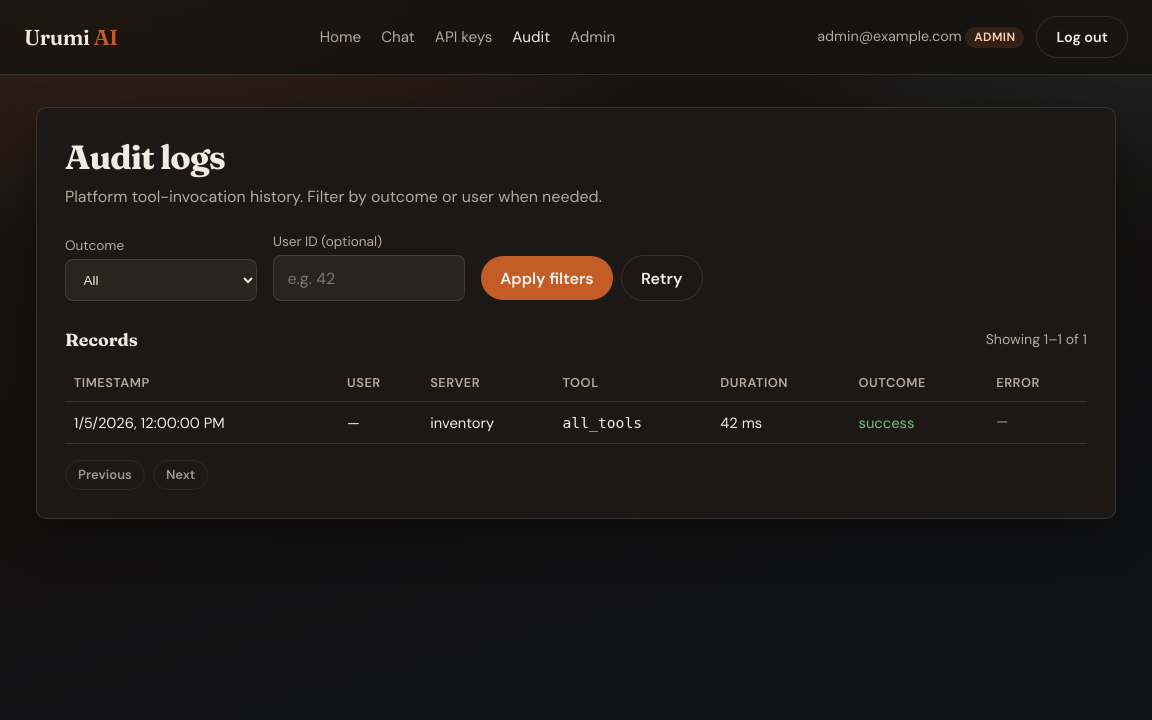
Scenario: audit log viewer › lets admins filter by user ID
This screenshot has width=1152, height=720.
Expected: the text "all_tools" is shown, [562, 414, 642, 430]
Expected: the column heading "User" is shown, [338, 363, 421, 402]
Type "42" into the field labelled "User ID (optional)".
click(369, 278); type("42")  # box [273, 255, 465, 301]
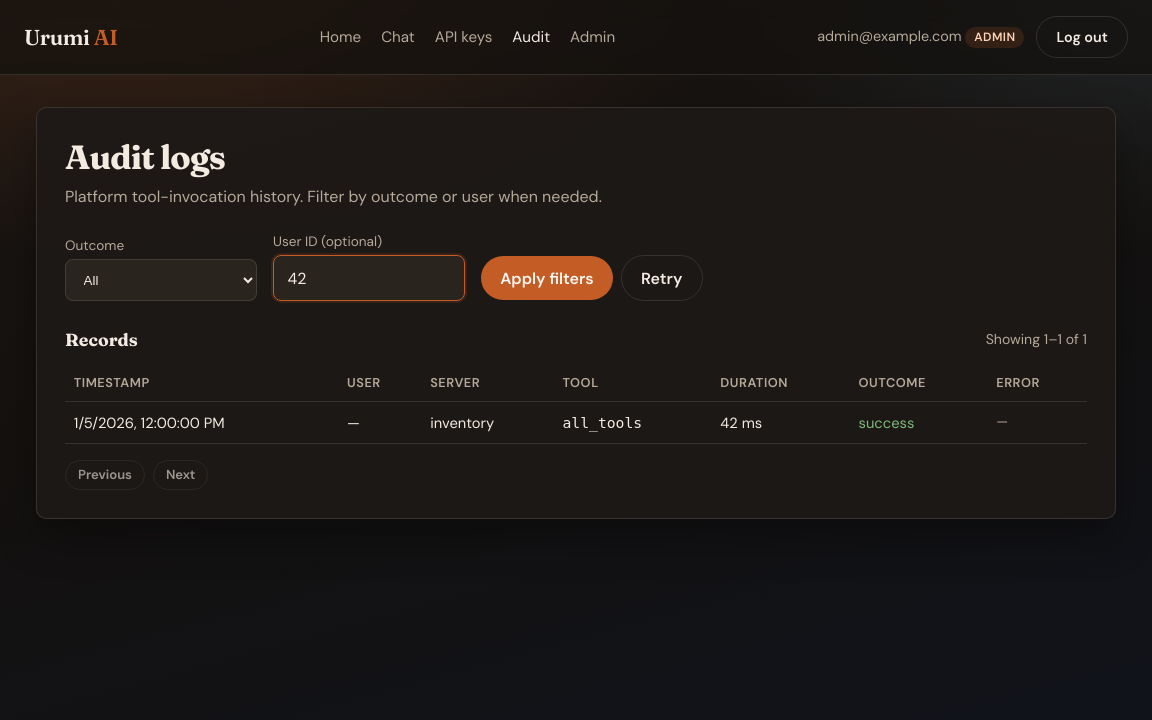
Click the button "Apply filters".
click(547, 278)  # box [481, 256, 613, 300]
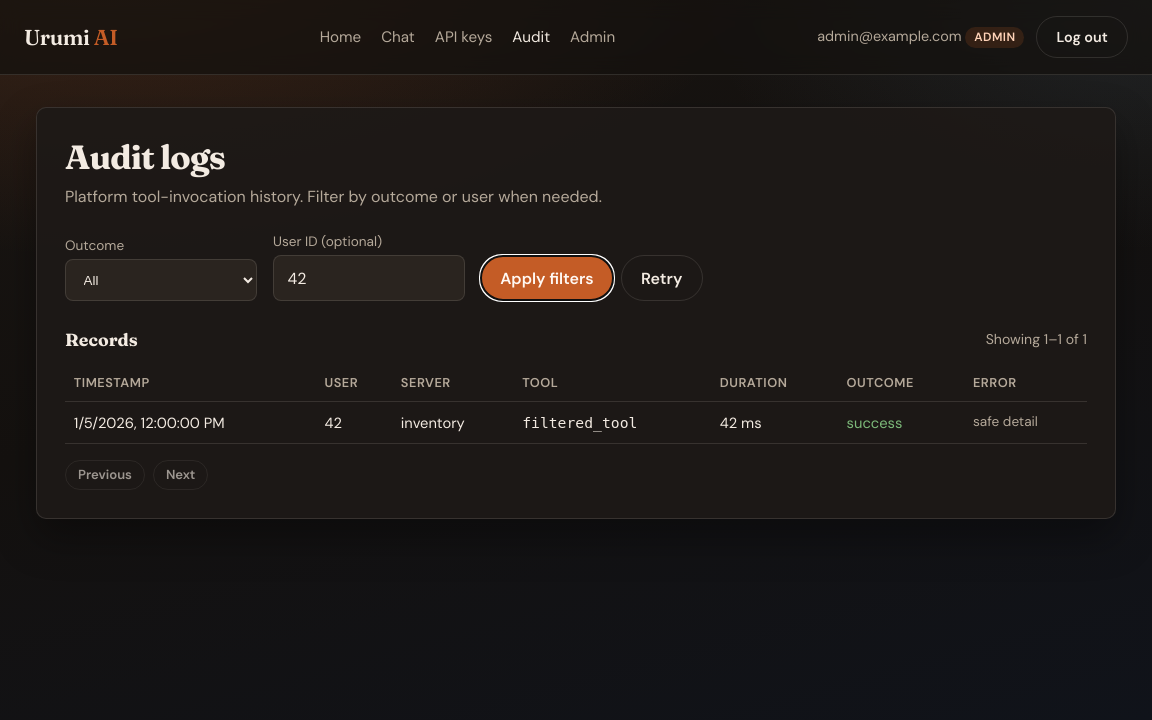
Expected: the text "filtered_tool" is shown, [522, 414, 637, 430]
Expected: the text "42" is shown, [316, 402, 392, 443]
Expected: the text "safe detail" is shown, [964, 402, 1087, 443]
